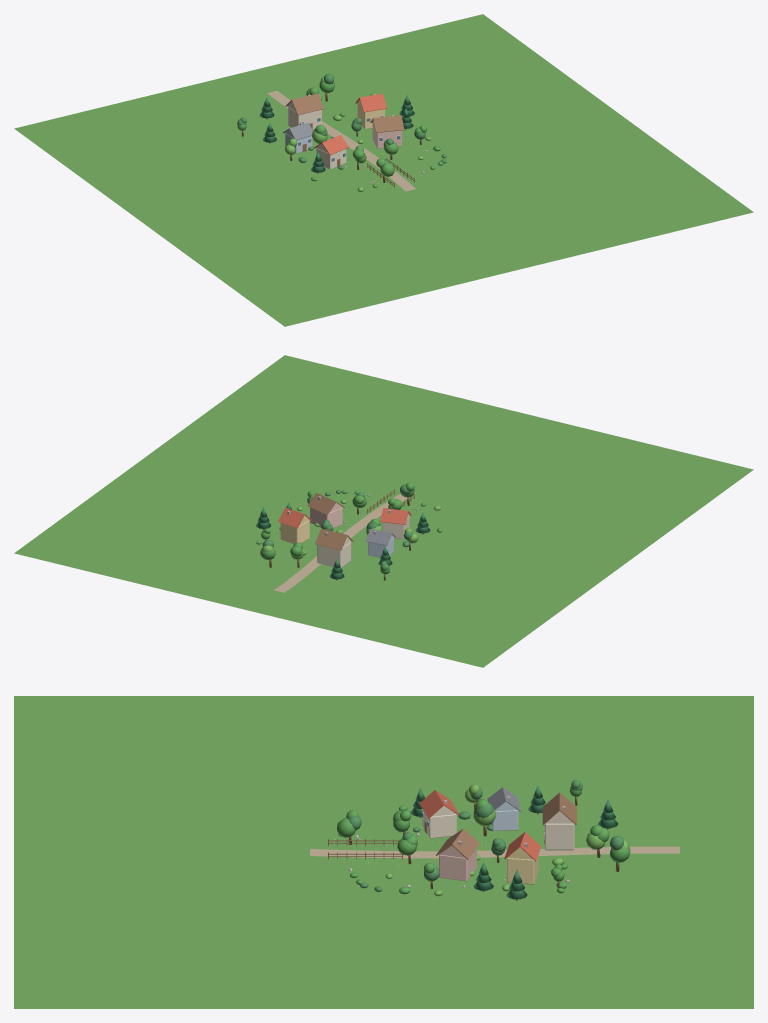
The model's file is dorf.glb.
3 renders of one model, top to bottom at view 1: azimuth 30°, elevation 25°; view 2: azimuth 150°, elevation 25°; view 3: azimuth 270°, elevation 25°, orthographic. The views are drawn at different scales.
Parts seen in each view (by area): view 1: Wiese, Weg; view 2: Wiese, Weg, H5_Haus, H4_Haus; view 3: Wiese, Weg, H2_Haus, H5_Haus, H4_Haus, H1_Haus, H5_Dach, H2_Dach, H1_Dach, H4_Dach.
Part boxes in pixels (<box>): Wiese: <box>14,14,753,326</box>; Weg: <box>267,90,415,191</box>; Wiese: <box>14,355,753,667</box>; Weg: <box>274,492,415,592</box>; H5_Haus: <box>317,542,351,567</box>; H4_Haus: <box>280,521,309,543</box>; Wiese: <box>14,696,753,1008</box>; Weg: <box>310,846,679,858</box>; H2_Haus: <box>439,848,476,881</box>; H5_Haus: <box>545,823,574,850</box>; H4_Haus: <box>507,854,538,884</box>; H1_Haus: <box>422,809,456,838</box>; H5_Dach: <box>542,792,576,825</box>; H2_Dach: <box>436,828,479,859</box>; H1_Dach: <box>419,790,459,818</box>; H4_Dach: <box>504,832,541,861</box>.
Size of the model in its own units: 80 by 5.16 by 80.
